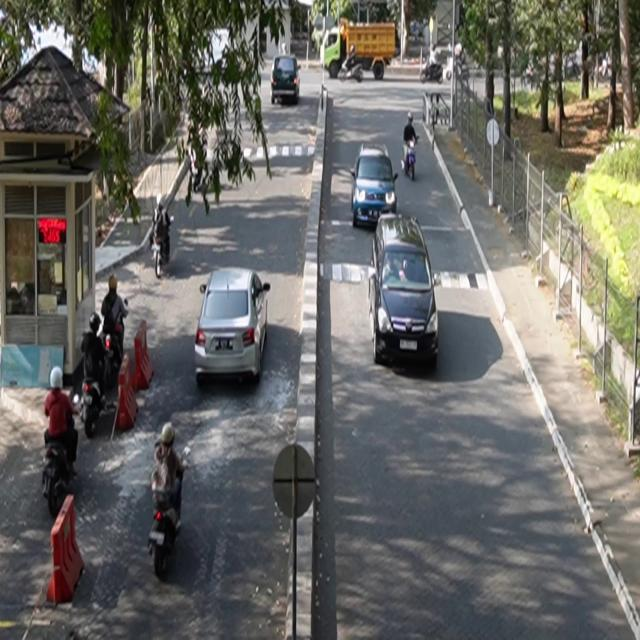car: (369, 212, 442, 367), (195, 267, 272, 385), (351, 143, 400, 229), (272, 55, 302, 106)
truck: (321, 20, 398, 81)
